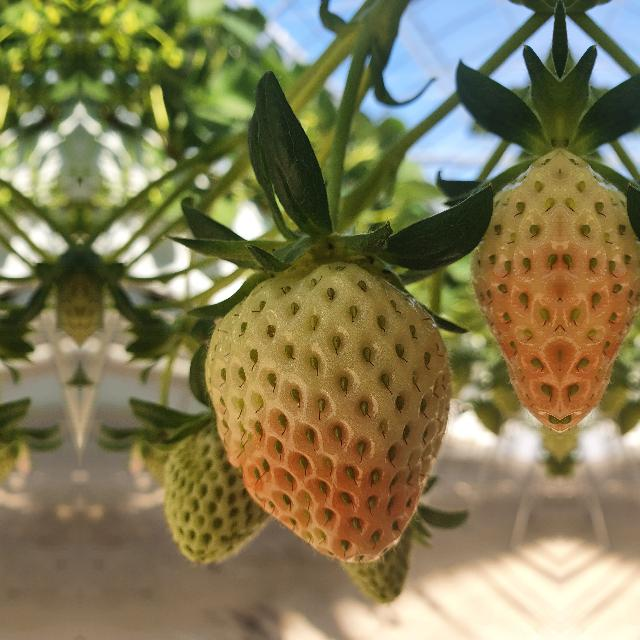Health_50: (204, 262, 452, 562)
